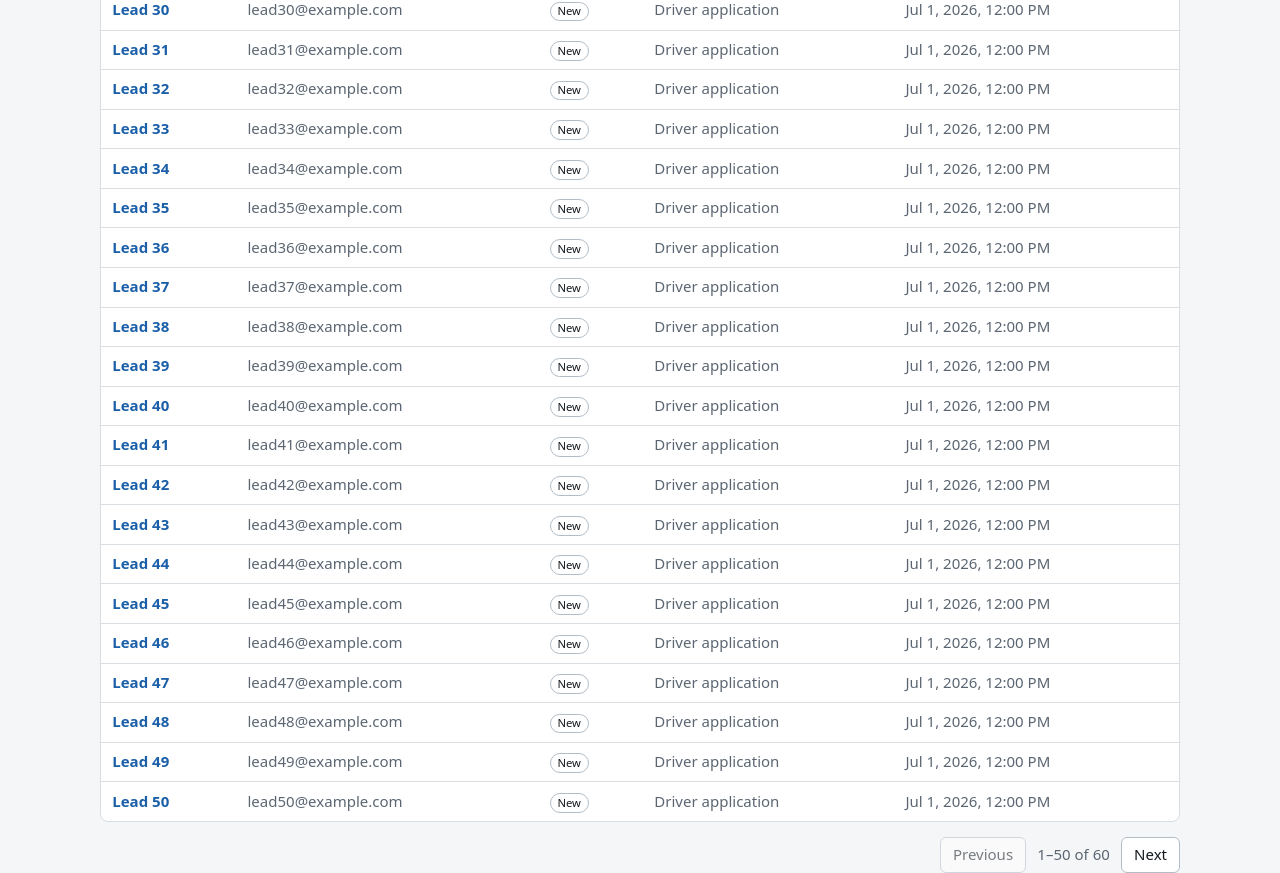
Test: LeadList › pages through a list longer than one screenful
The width and height of the screenshot is (1280, 873).
(page scrolled)
expect the text "1–50 of 60" is shown: met, box [1037,844,1110,866]
expect the button "Previous" is disabled: met, box [940,837,1026,872]
Click the button "Next" at (1151, 855), box [1121,837,1180,872]
(page scrolled)
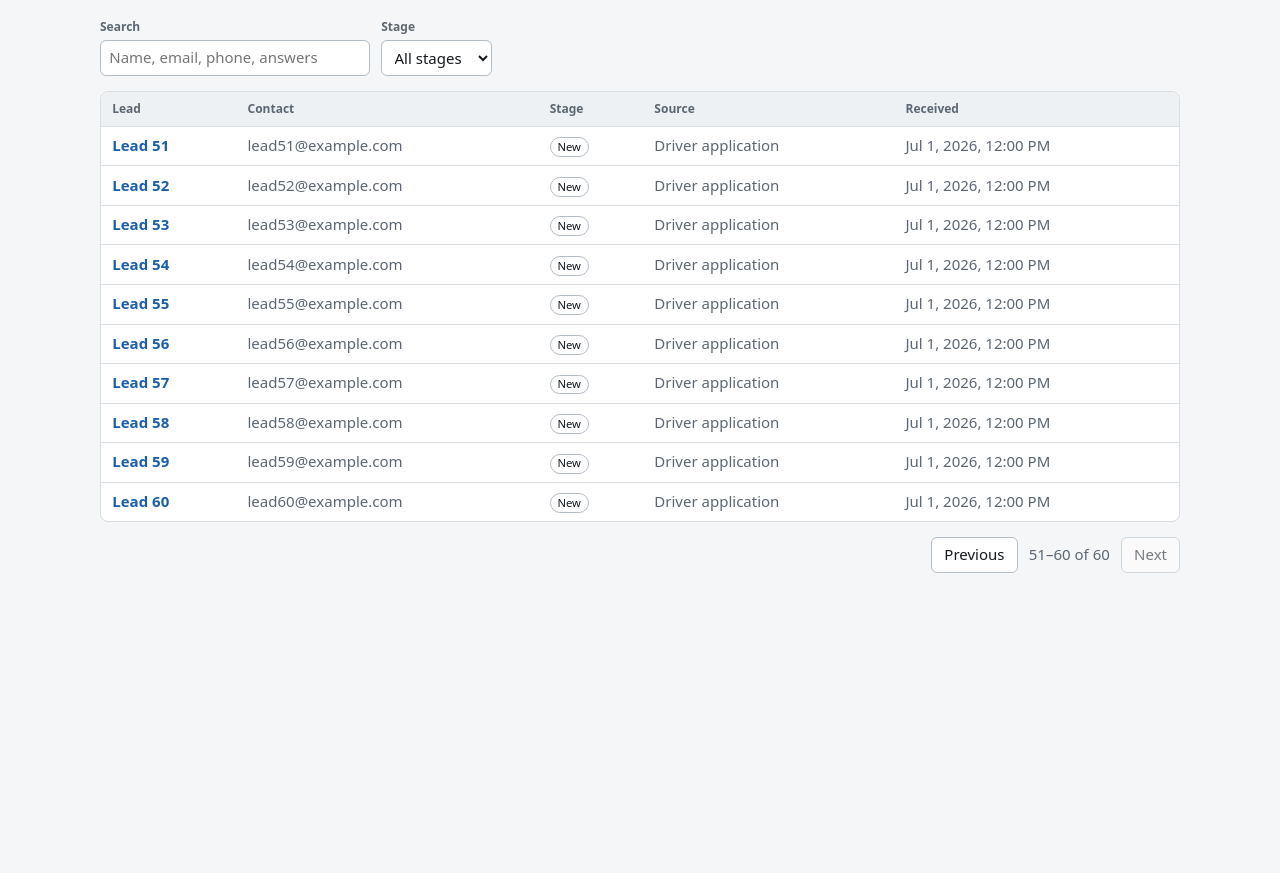
expect the text "51–60 of 60" is shown: met, box [1029,544,1110,566]
expect the button "Next" is disabled: met, box [1121,537,1180,573]
